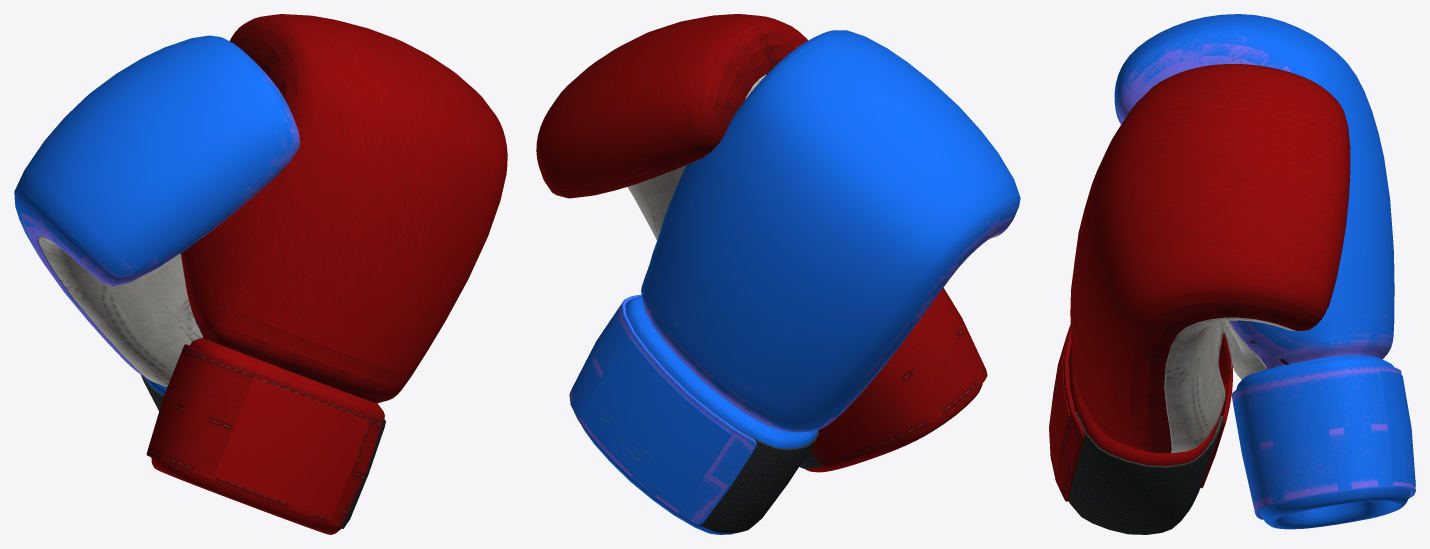
3 views of the same model, side by side, from view 1: azimuth 30°, elevation 25°; view 2: azimuth 150°, elevation 25°; view 3: azimuth 270°, elevation 25° (orthographic). The views are drawn at different scales.
Parts seen in each view (by area): view 1: BoxDX2, BoxDX; view 2: BoxDX, BoxDX2; view 3: BoxDX2, BoxDX.
Boxes of the visible parts, x1,y1,x2,y2 form: BoxDX2: (146,14,507,534); BoxDX: (14,35,300,411); BoxDX: (569,30,1020,534); BoxDX2: (536,14,987,472); BoxDX2: (1049,64,1350,534); BoxDX: (1114,14,1415,529).
Size of the model in its own units: 240 by 241 by 166.
Materials: 2 (2 with a texture image).
